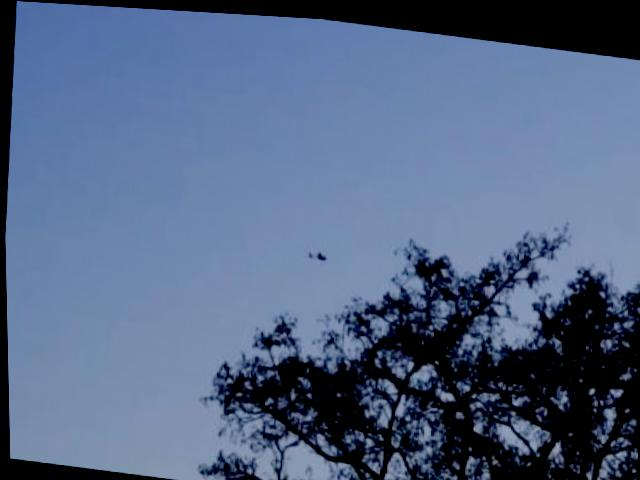uav: (306, 244, 329, 261)
